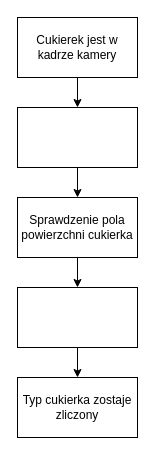
This 155x455 diagram has some shape labels left out. Each missing label, with the centre of its shape:
"Sprawdzanie pozycji cukierka" goes at (x=77, y=317).
"Sprawdzenie koloru cukierka" goes at (x=77, y=137).
